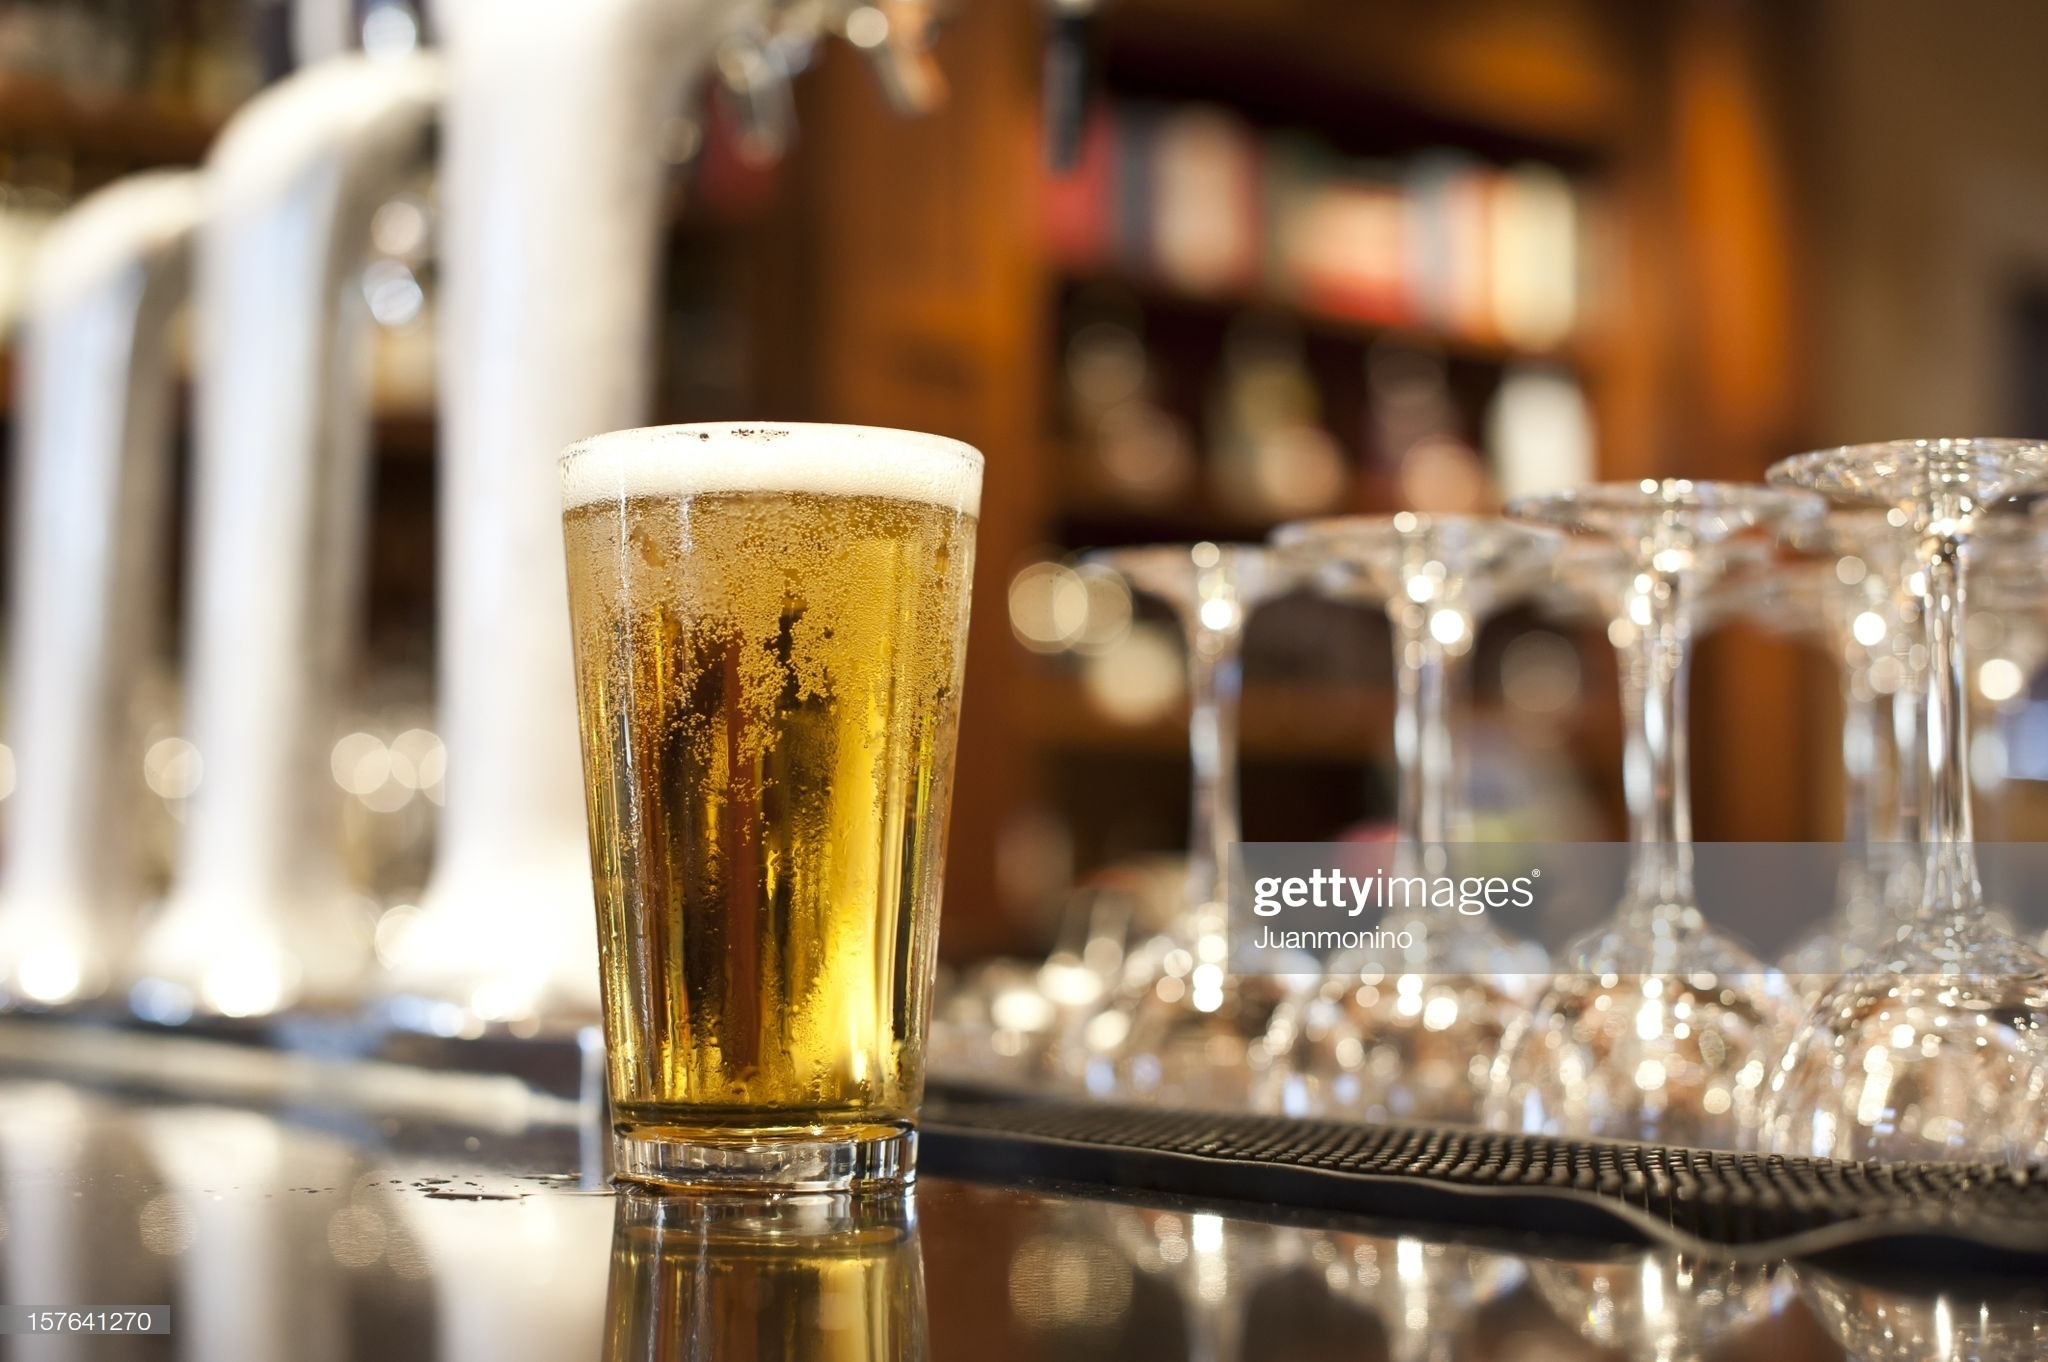whiskey: (561, 426, 971, 1198)
